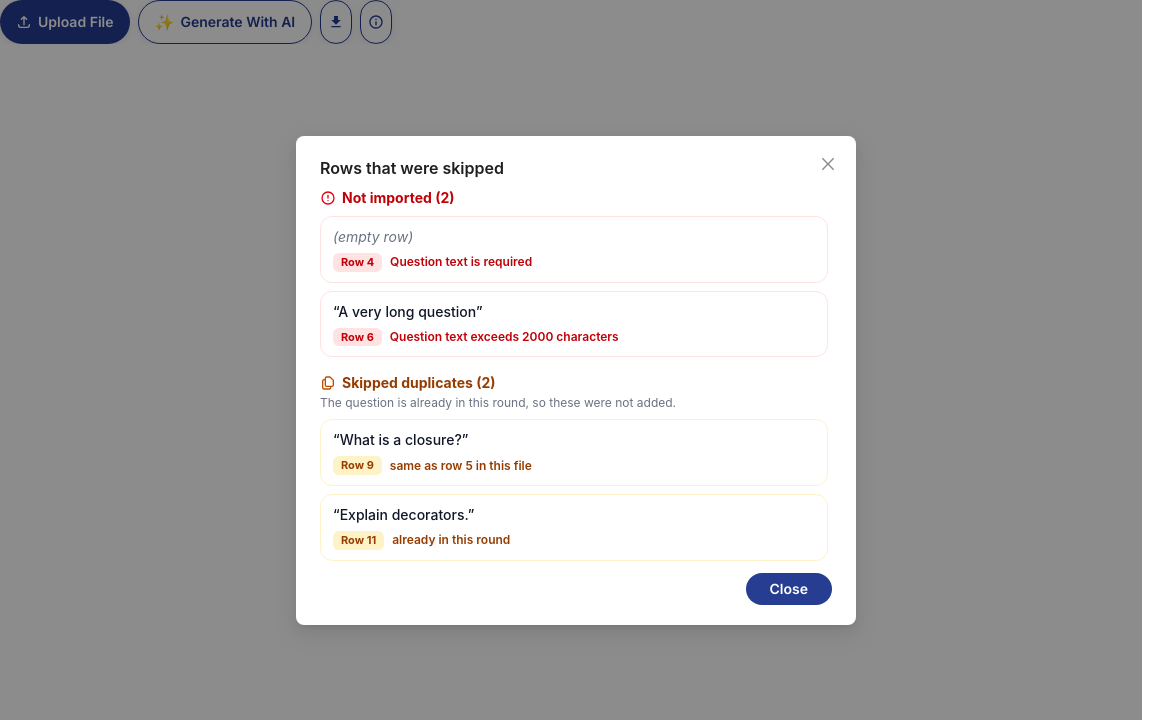
Test: UploadAndGenerateHeader import details › can be closed
Click the button "Close". click: (789, 589)
box: [746, 573, 832, 605]
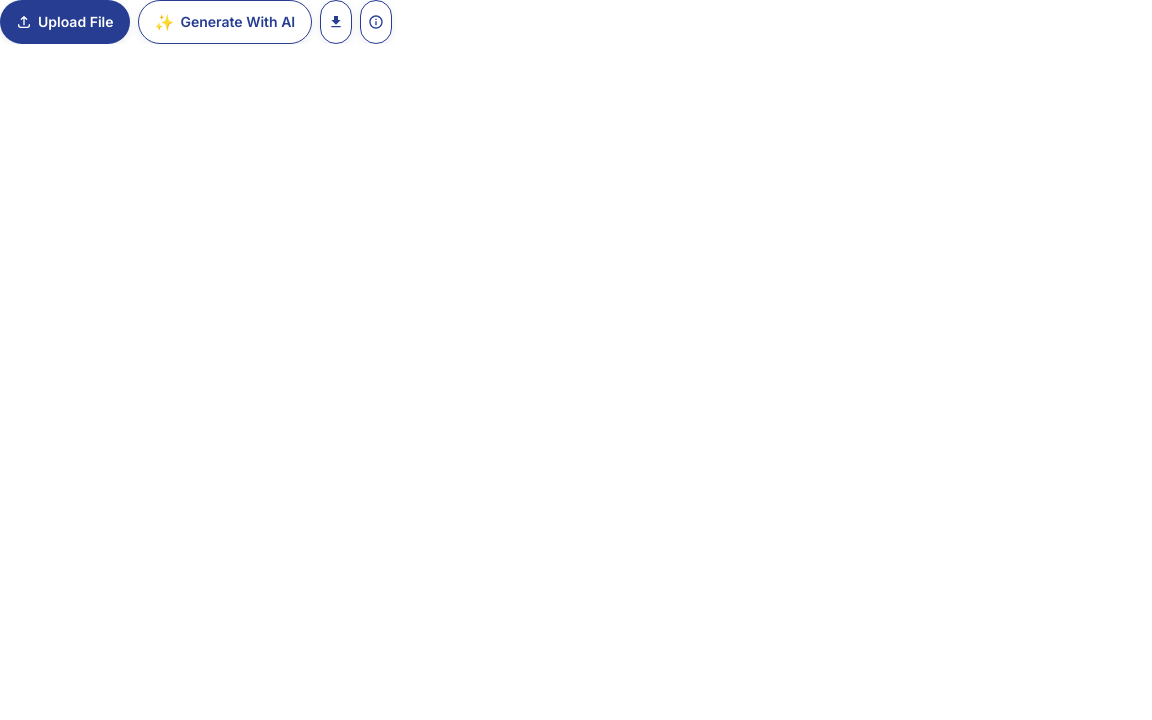
expect the text "Not imported (2)" is gone: met
